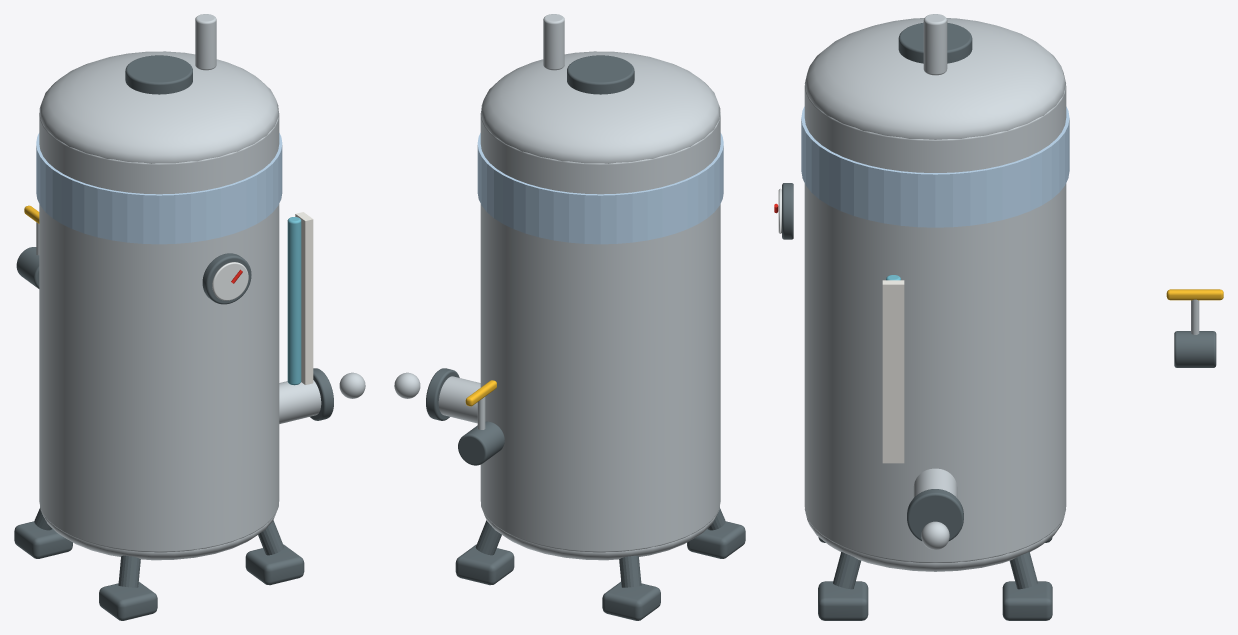
The model's file is silo.glb.
The picture shows the model from 3 angles, left to right: view 1: azimuth 30°, elevation 25°; view 2: azimuth 150°, elevation 25°; view 3: azimuth 270°, elevation 25°; orthographic projection. The views are drawn at different scales.
Visible parts, largest first — view 1: body, status, level; view 2: body, status; view 3: body, status, level.
Part boxes in pixels (x1=…): body: x1=14, y1=14, x2=365, y2=620; status: x1=36, y1=133, x2=282, y2=244; level: x1=295, y1=212, x2=313, y2=384; body: x1=394, y1=14, x2=745, y2=620; status: x1=477, y1=133, x2=723, y2=244; body: x1=774, y1=14, x2=1223, y2=620; status: x1=801, y1=106, x2=1069, y2=227; level: x1=882, y1=280, x2=904, y2=463.
Bounding box in the file's own units: 2.33 × 3.82 × 2.68.
